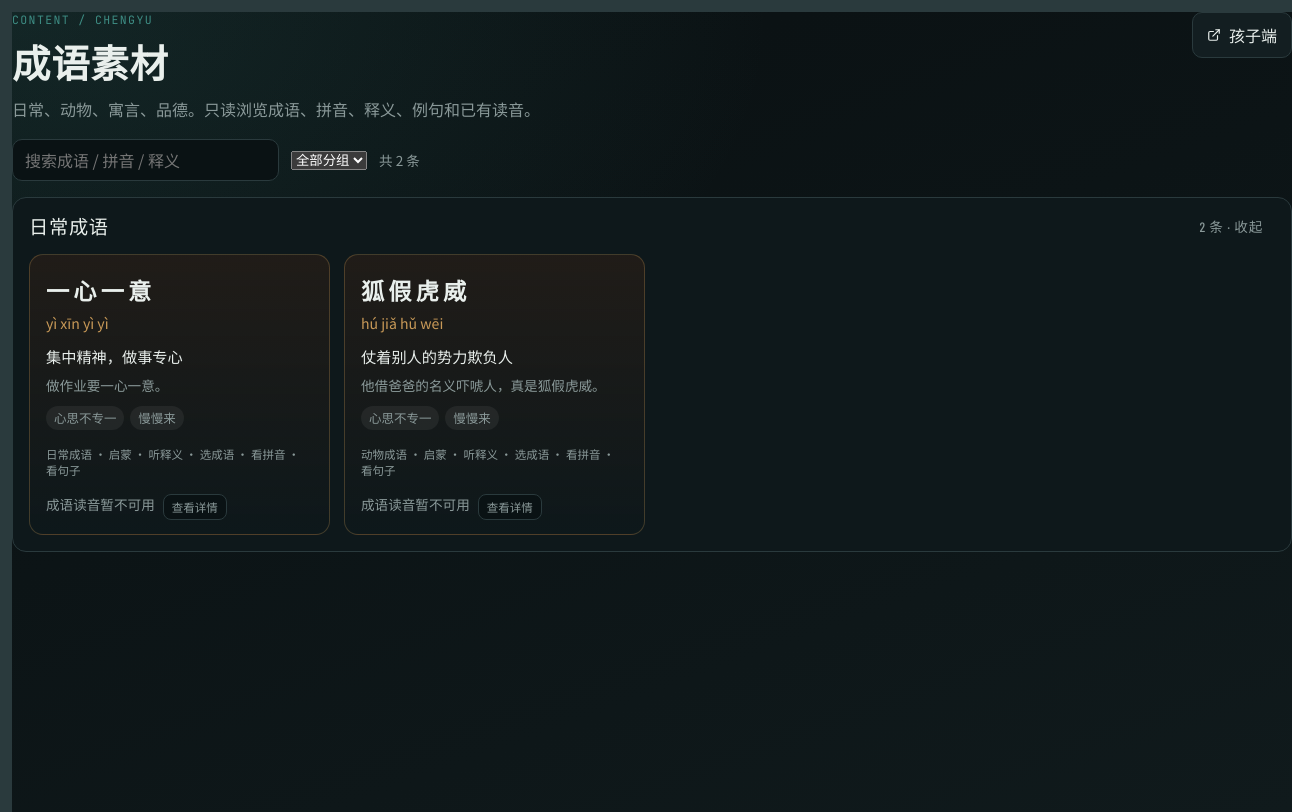
Test: ChengyuPage › filters chengyu by meaning or example
This screenshot has width=1292, height=812.
Check: the heading "一心一意" is shown, box [46,279,156,305]
Check: the heading "狐假虎威" is shown, box [361,279,470,305]
Type "专心" into the field with placeholder "搜索成语 / 拼音 / 释义" at (146, 160), box [12,139,279,181]
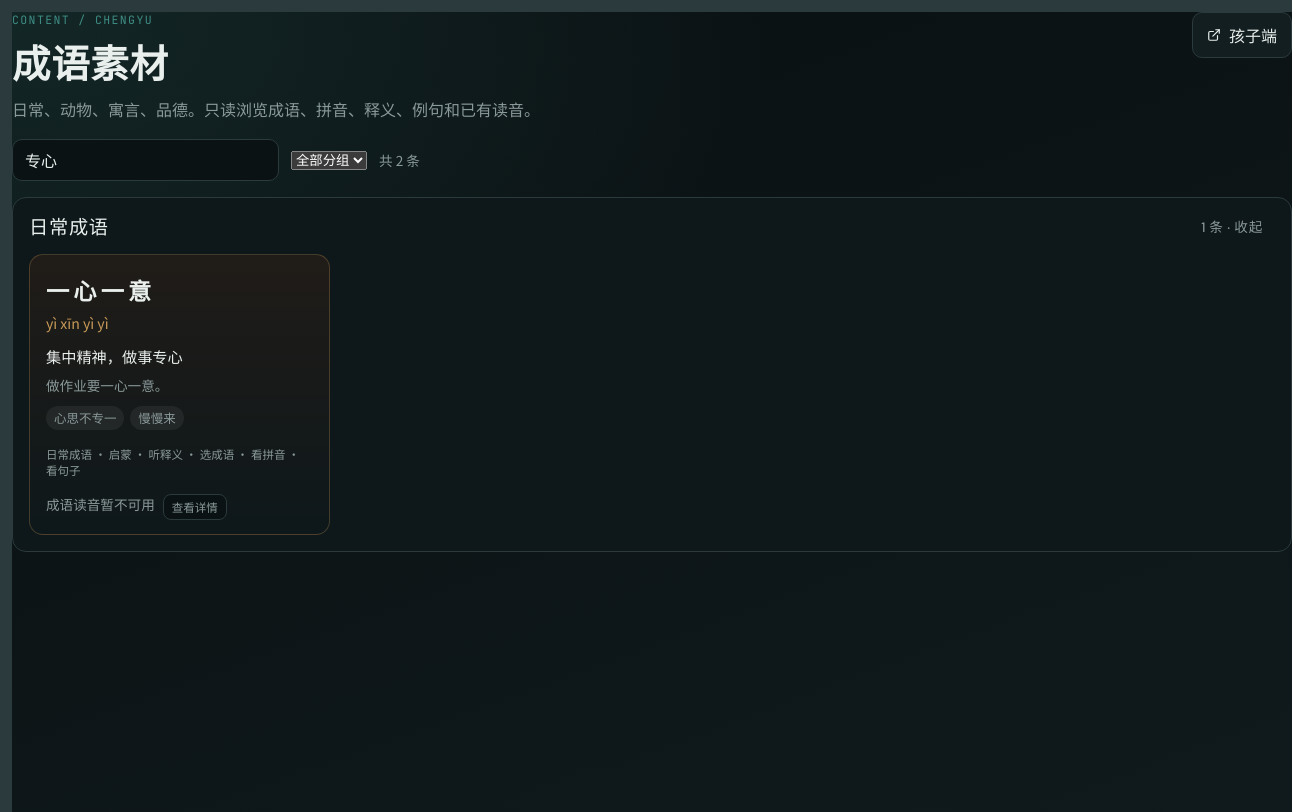
Check: the heading "一心一意" is shown, box [46,279,156,305]
Check: the heading "狐假虎威" is gone
